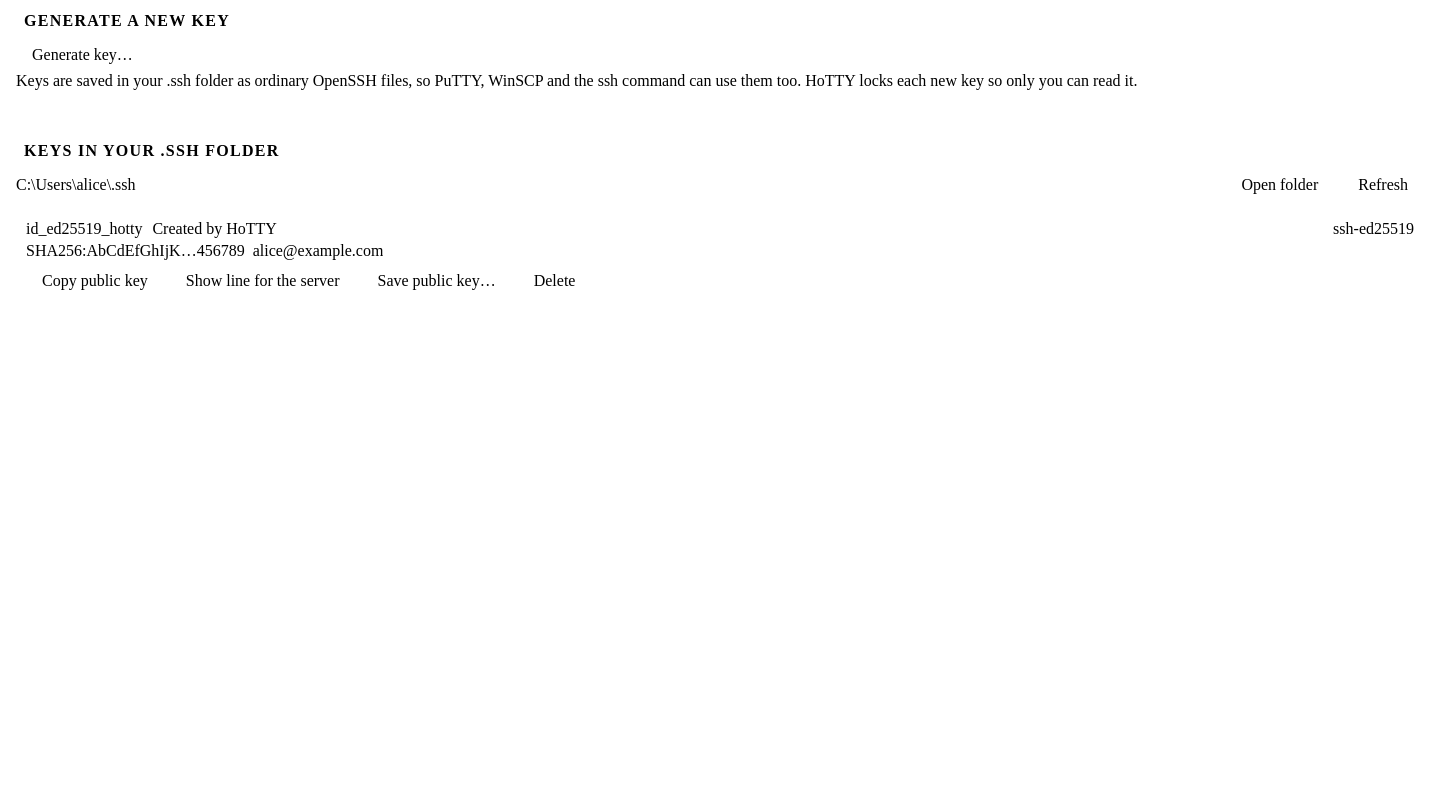
it: SshKeysTab › cancelling the confirm deletes nothing
Click the button "Delete" at (555, 281), box [518,266,592,296]
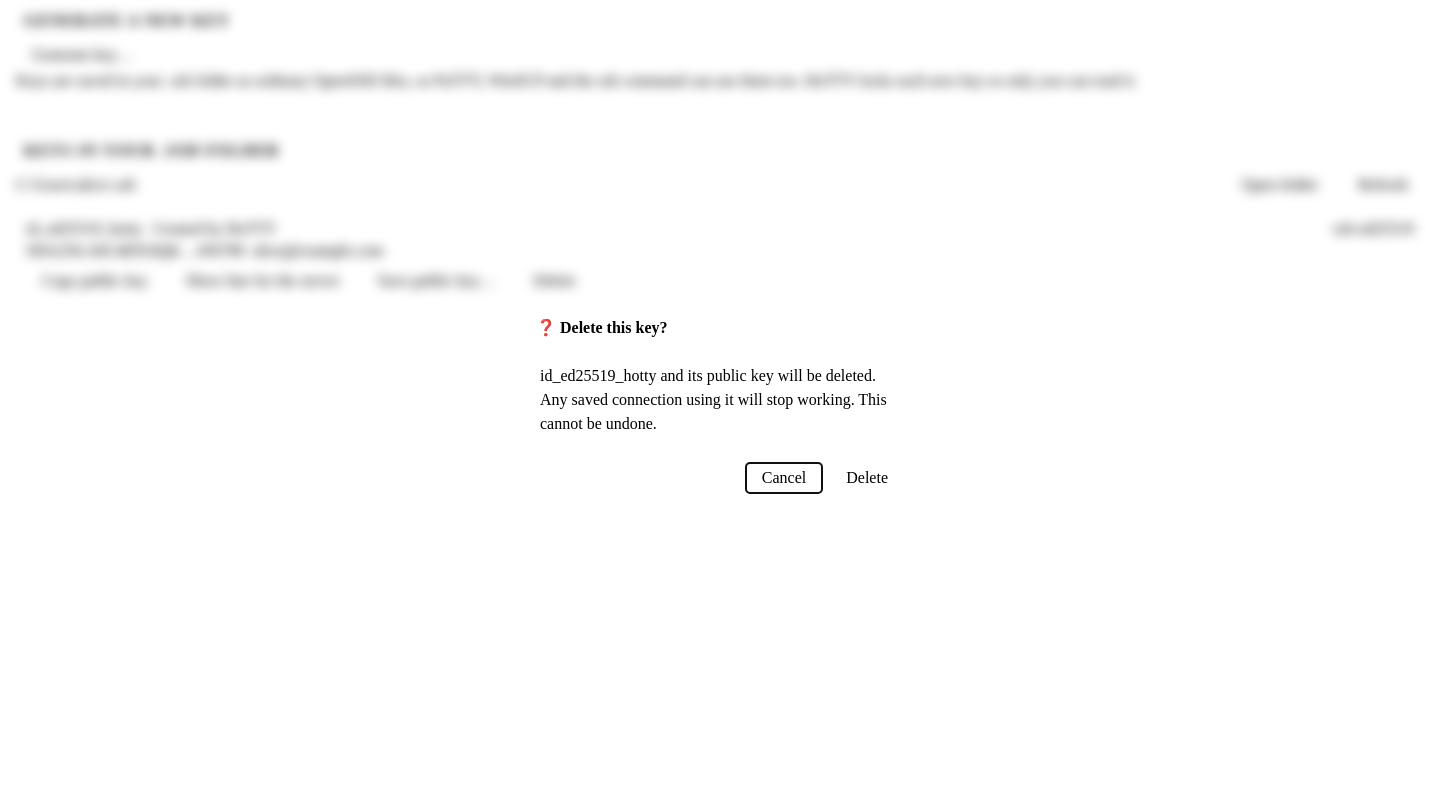
Now the text "Delete this key?" is shown, box [560,318,668,336]
Click the button "Cancel" at (784, 478), box [746,462,822,492]
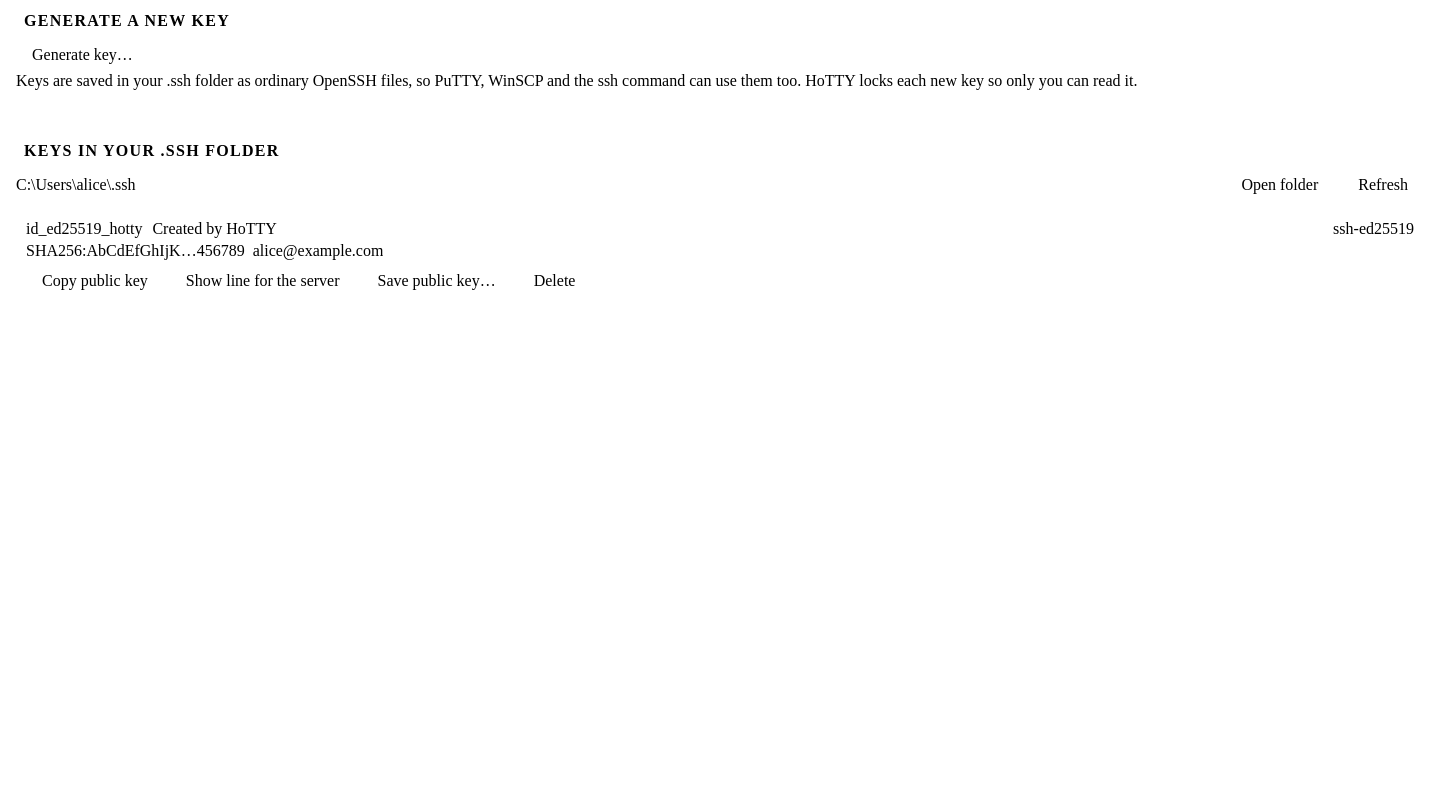
Now the text "Delete this key?" is gone
